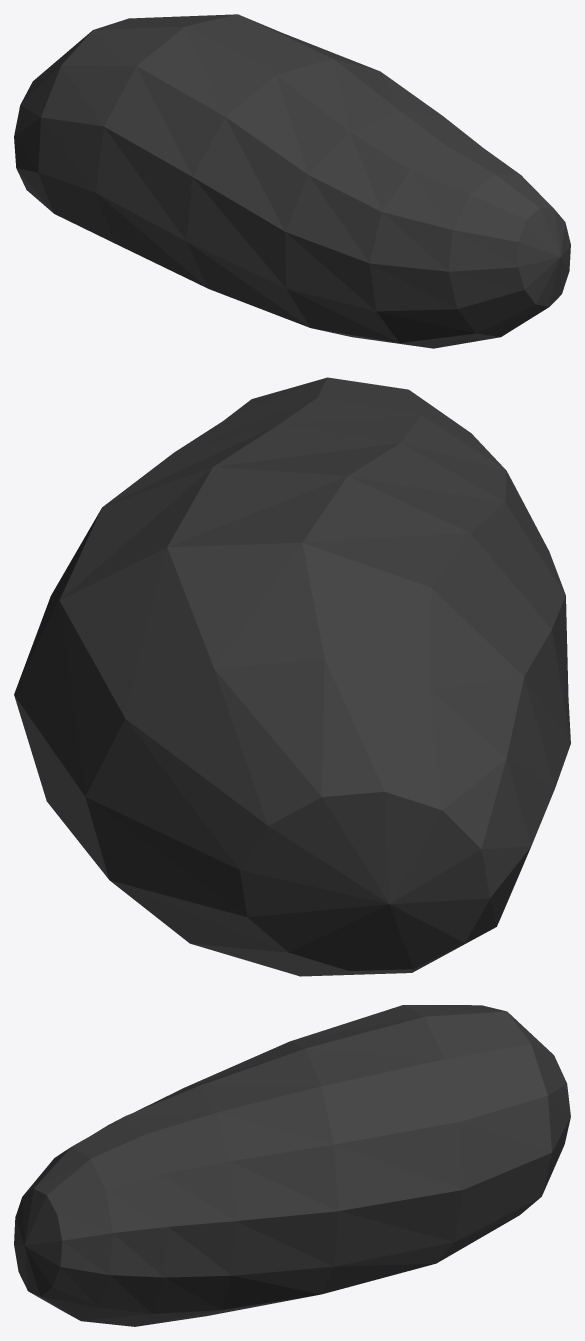
File: adrenal_R_LP.glb
3 renders of one model, top to bottom at view 1: azimuth 30°, elevation 25°; view 2: azimuth 150°, elevation 25°; view 3: azimuth 270°, elevation 25°, orthographic. The views are drawn at different scales.
Visible parts, largest first — view 1: adrenal_R_LP; view 2: adrenal_R_LP; view 3: adrenal_R_LP.
Boxes of the visible parts, x1,y1,x2,y2 form: adrenal_R_LP: (14, 14, 570, 348); adrenal_R_LP: (14, 377, 570, 976); adrenal_R_LP: (14, 1005, 570, 1326).
Bounding box in the file's own units: 0.000942 × 0.00063 × 0.00128.
1 material, 1 textured.
